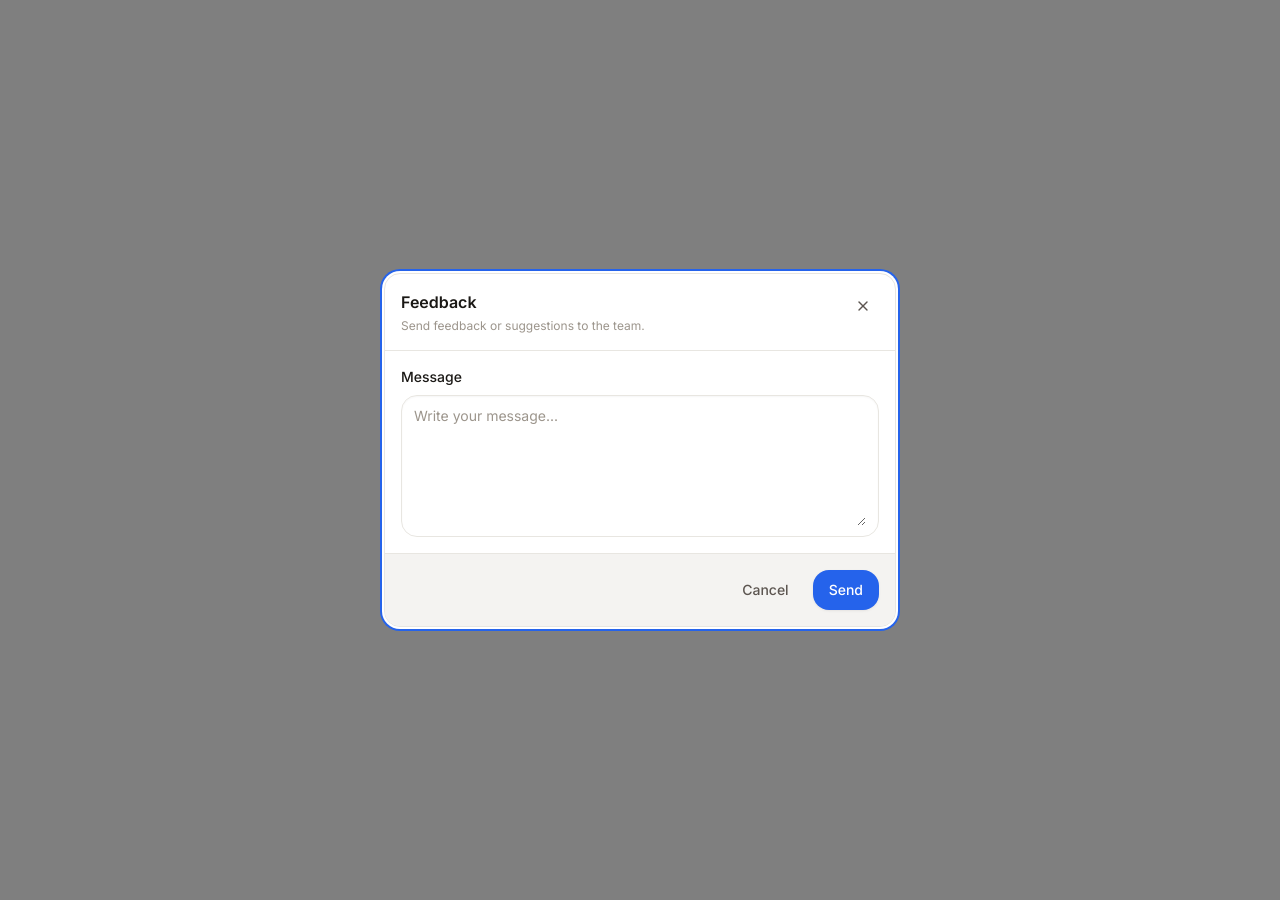
Test: ReachoutModal › shows one close action after a successful submission
Type "This is useful feedback." into the text box labelled "Message" at (640, 466), box [414,406,866,526]
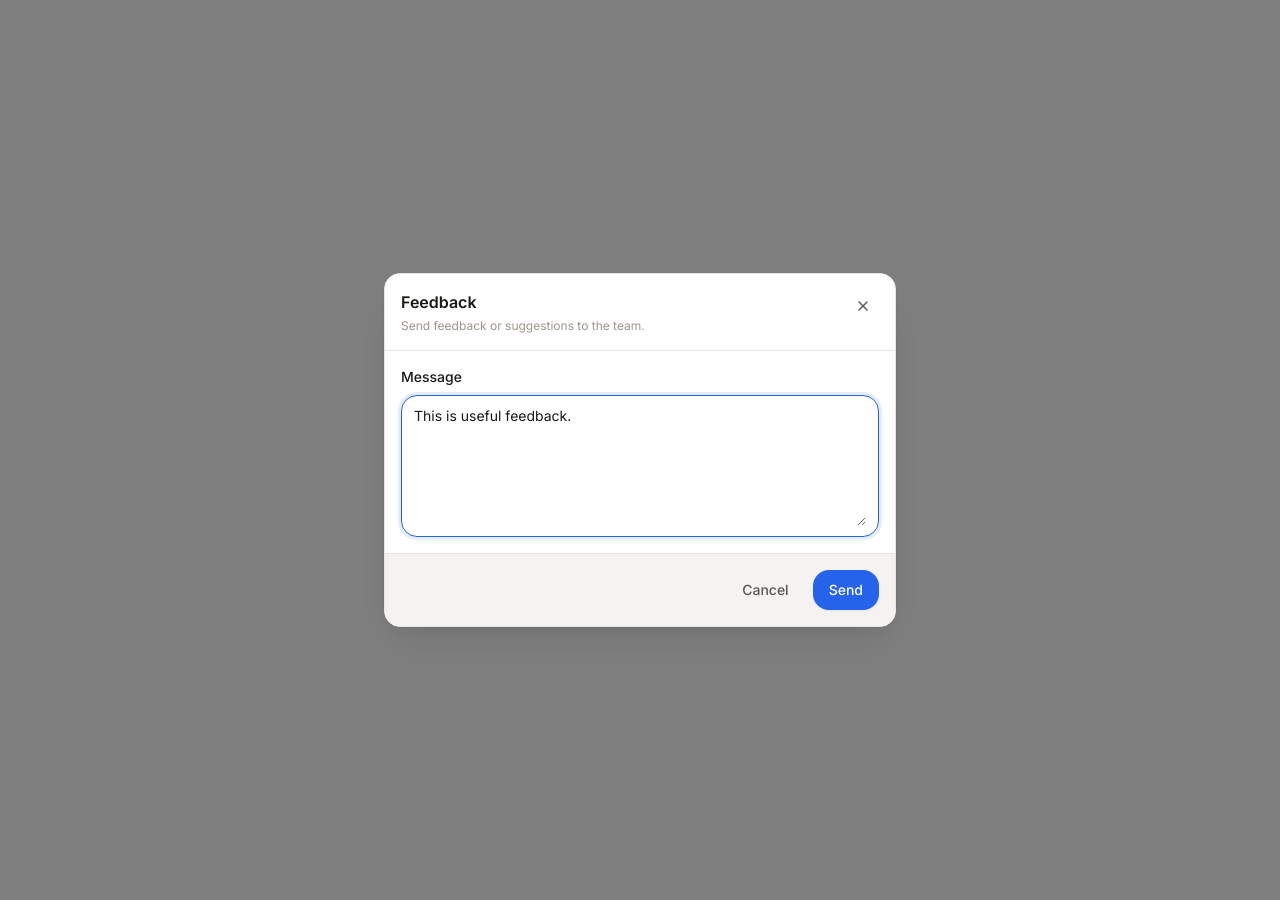
Click the button "Send" at (846, 590), box [813,570,879,610]
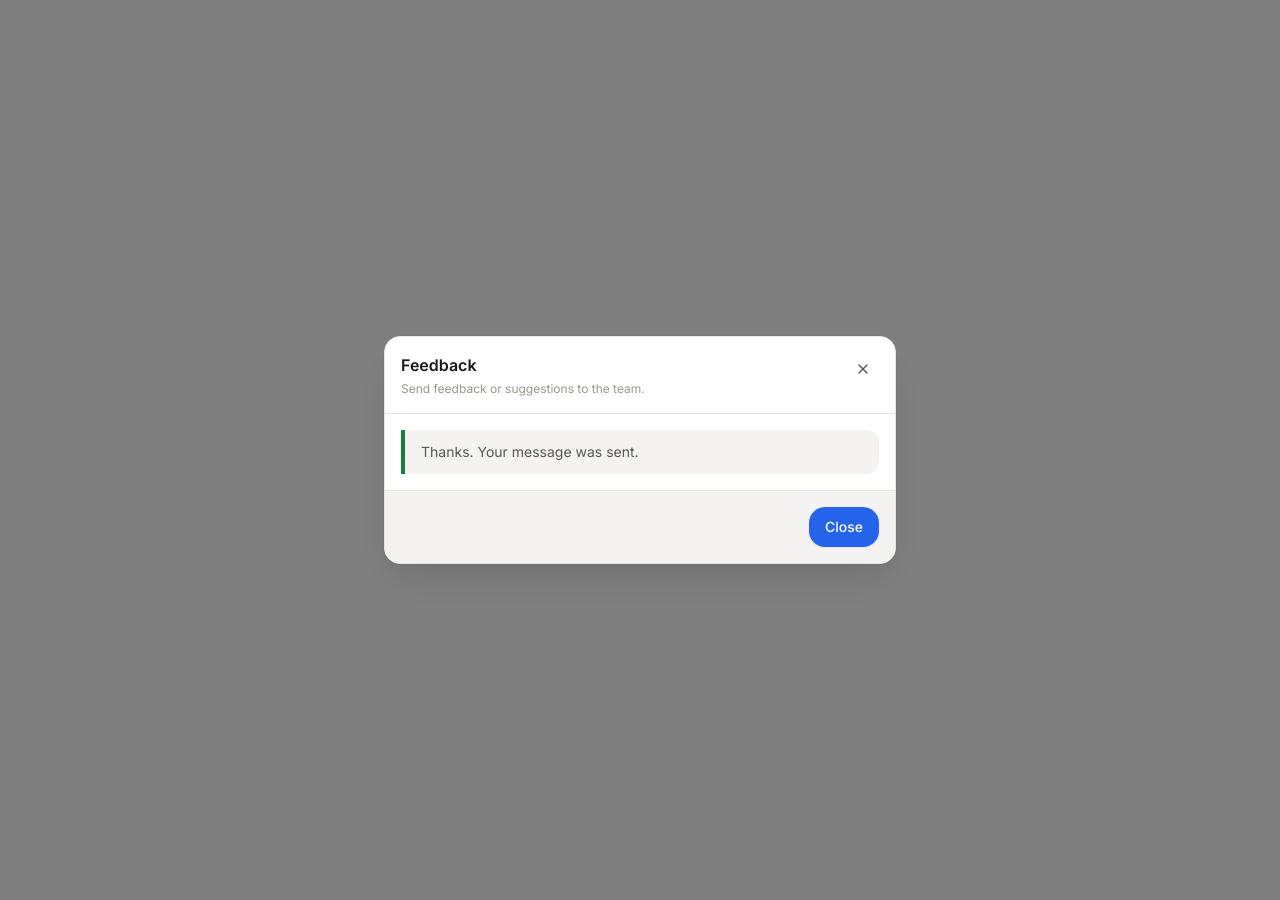
Check: the text named "Reachout success" is shown, box [401,430,879,474]
Check: the button "Cancel" is gone
